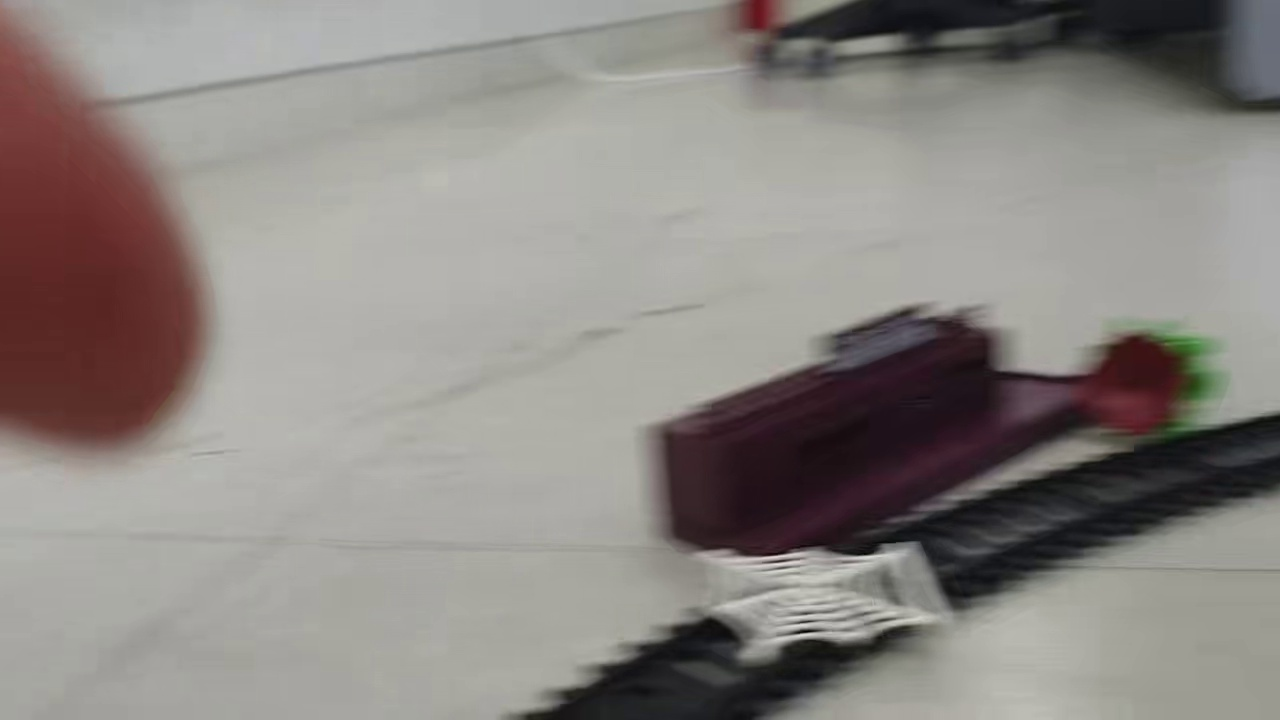tree: (1081, 320, 1230, 449)
web: (688, 537, 959, 664)
